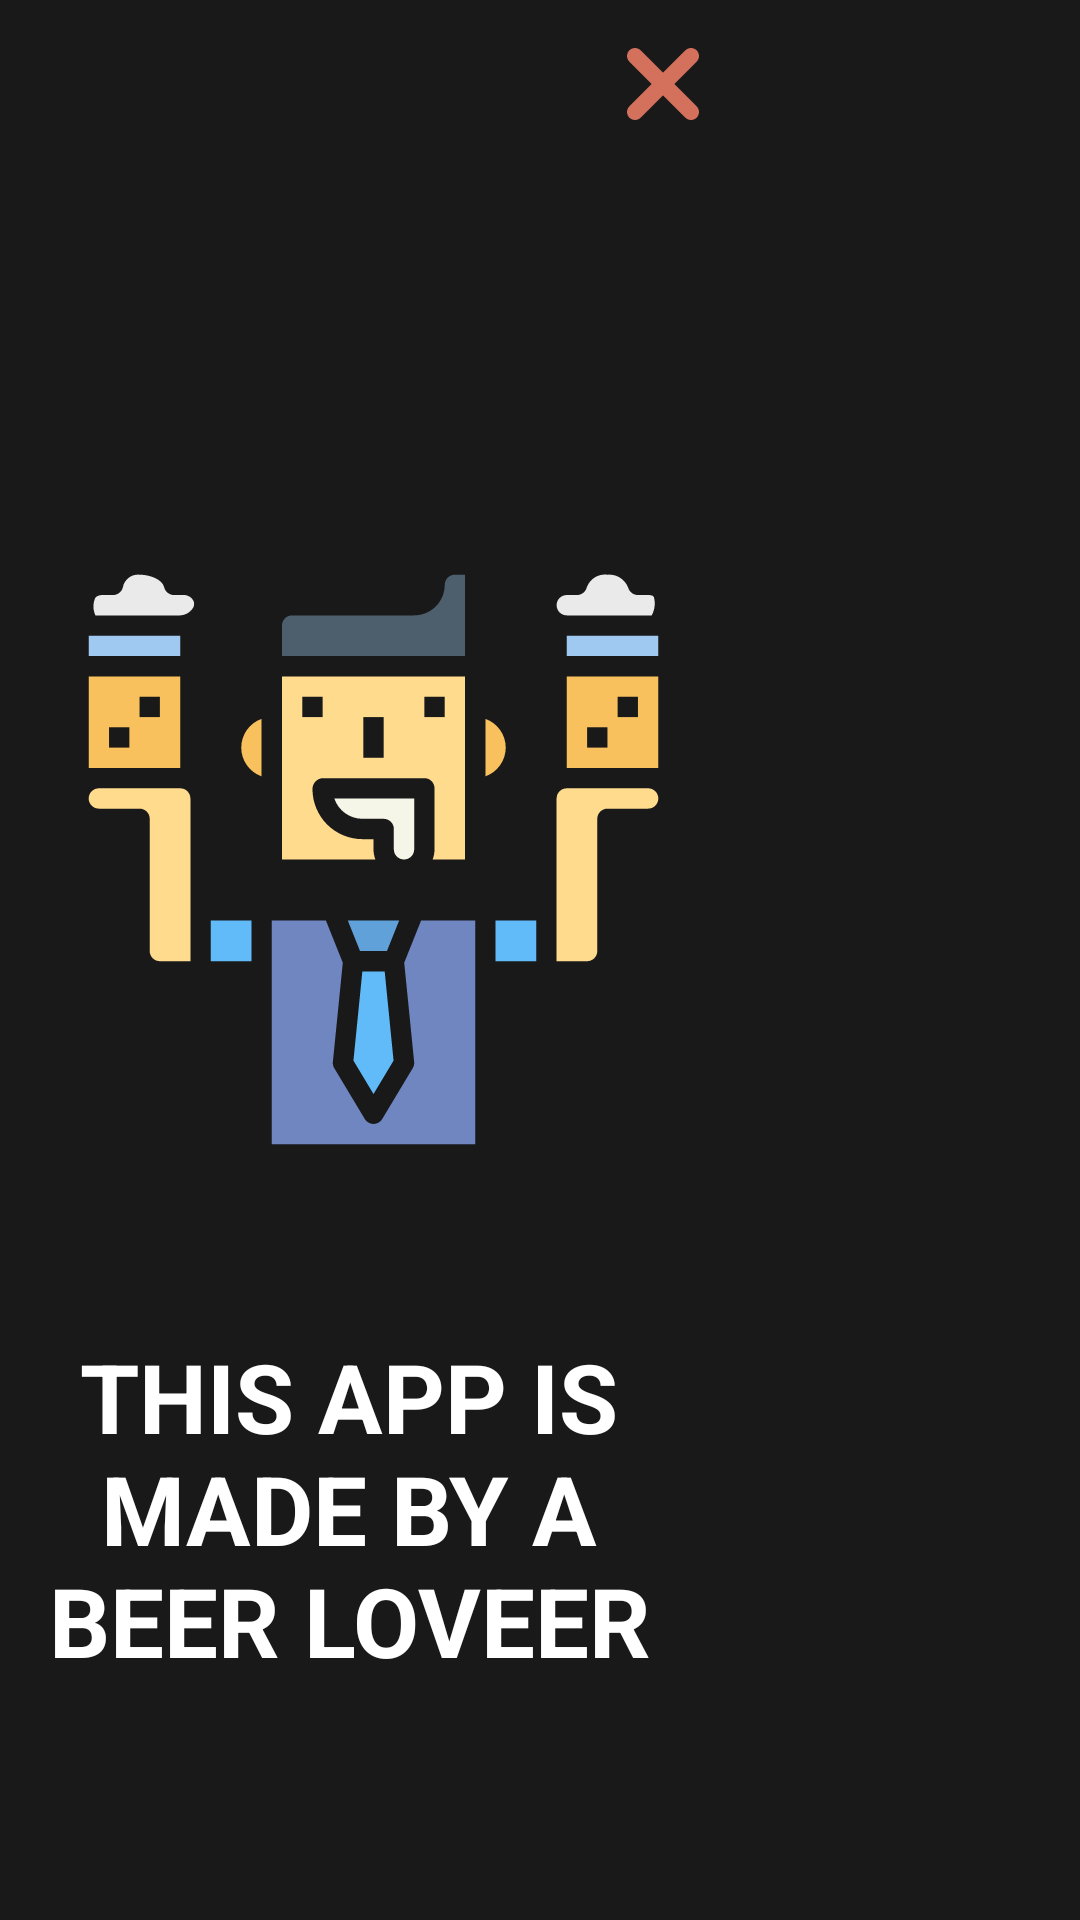

Icons on this 1080 × 1920 Android screen, each with the point to tap as (x,y):
clear: (663,84)
